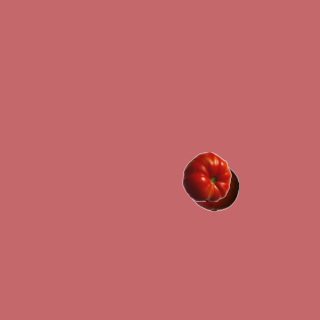Apple Braeburn: (188, 161, 238, 211)
Tomato 3: (181, 151, 231, 201)
